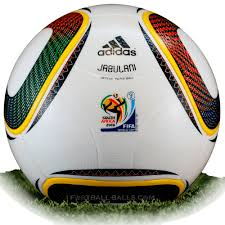football ball: (4, 4, 223, 209)
